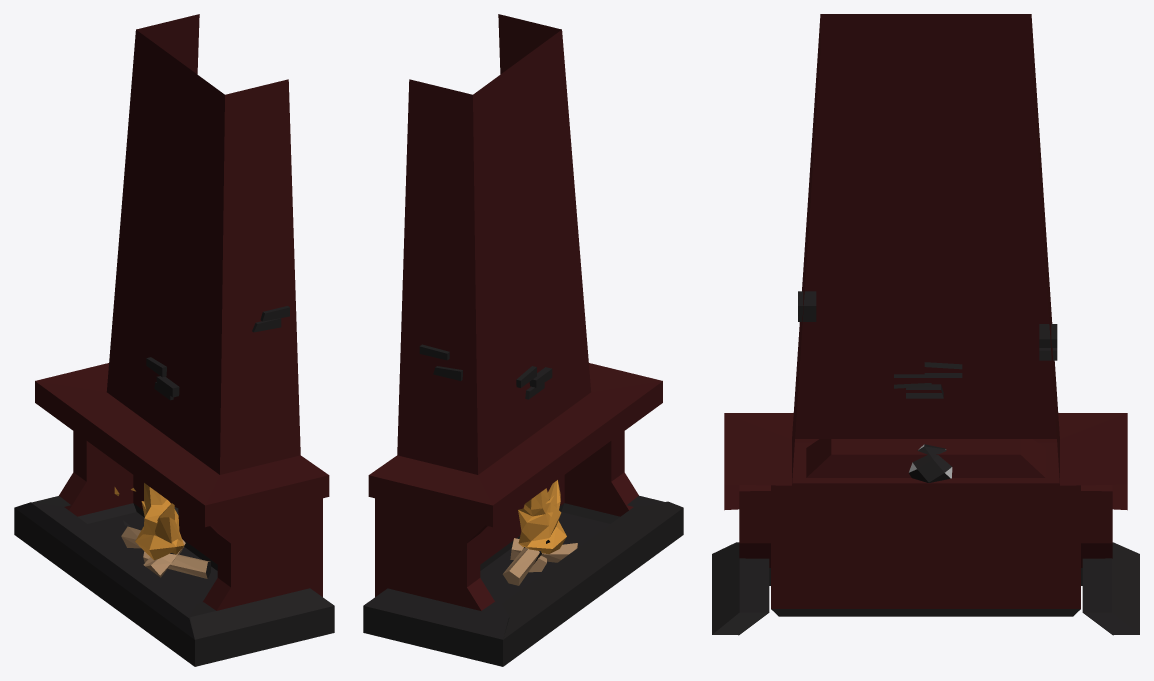
Rendered from fireplace.fbx.
The picture shows the model from 3 angles, left to right: view 1: azimuth 30°, elevation 25°; view 2: azimuth 150°, elevation 25°; view 3: azimuth 270°, elevation 25°; orthographic projection. The views are drawn at different scales.
Parts seen in each view (by area): view 1: fireplace; view 2: fireplace; view 3: fireplace.
Boxes of the visible parts, x1,y1,x2,y2 form: fireplace: (14,14,334,666); fireplace: (363,14,683,666); fireplace: (712,14,1139,635).
Size of the model in its own units: 167 by 593 by 373.
